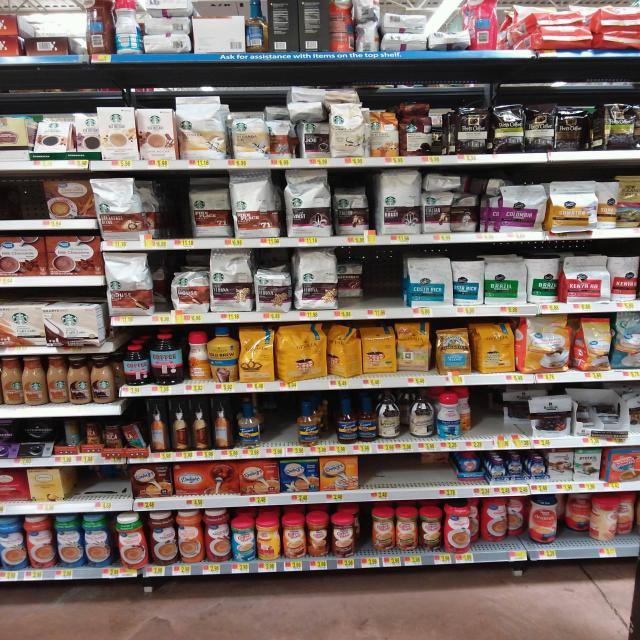100- O.O.S: (361, 455, 418, 499), (365, 251, 402, 318), (4, 180, 47, 229), (472, 387, 499, 449), (165, 180, 188, 249), (266, 412, 296, 456), (423, 464, 453, 498)
